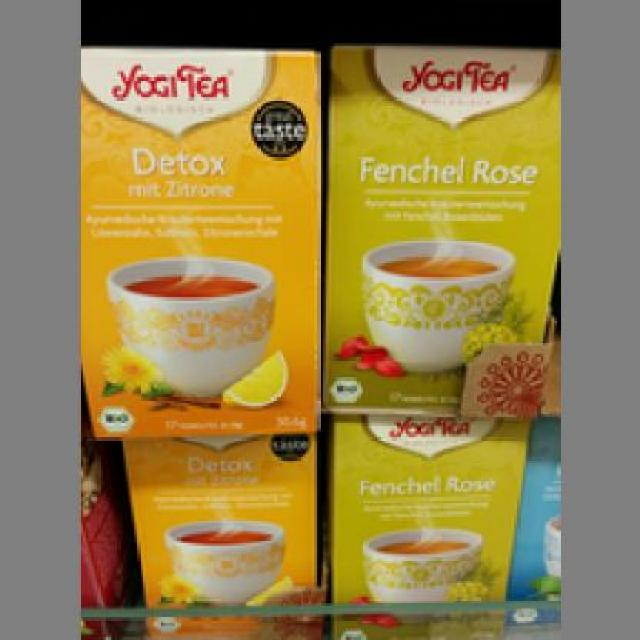Tea: (77, 40, 317, 440), (323, 34, 557, 414), (323, 408, 531, 638), (120, 432, 317, 638)
